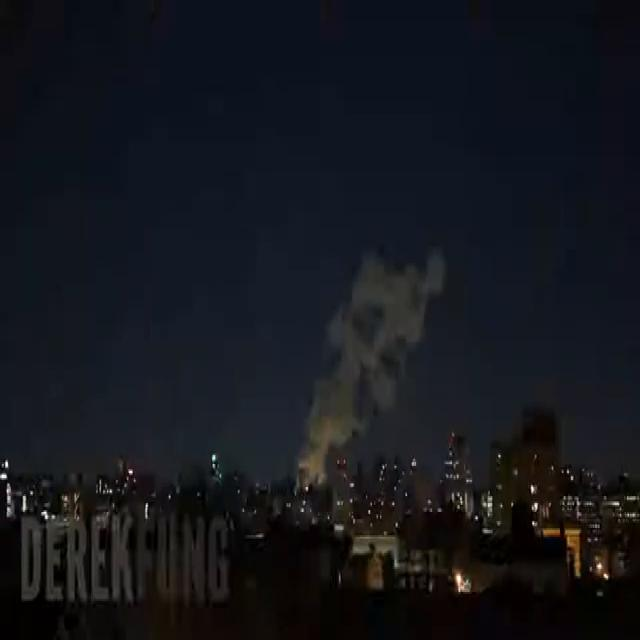smoke: (298, 252, 443, 480)
